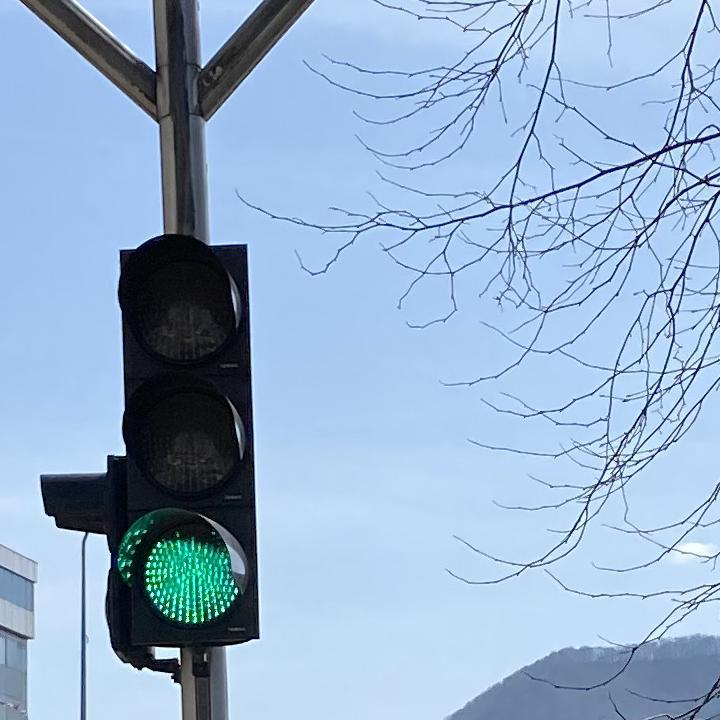green: (110, 241, 256, 655)
